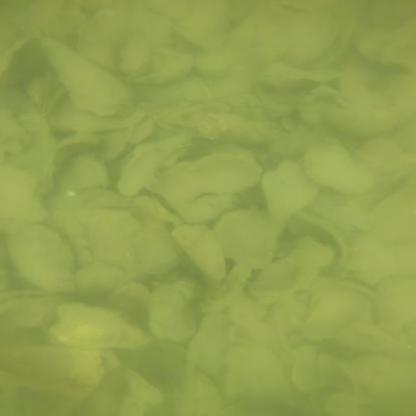3: (288, 217, 347, 269)
Oyster-Closed: (42, 39, 135, 113), (155, 154, 259, 201), (50, 304, 157, 348), (9, 221, 74, 291), (120, 133, 194, 193), (301, 286, 369, 340), (45, 96, 148, 131), (214, 207, 274, 267), (304, 140, 371, 190), (224, 345, 281, 398), (151, 283, 198, 346), (263, 162, 316, 217), (347, 230, 397, 286), (173, 226, 223, 278), (325, 108, 403, 140), (258, 62, 343, 91), (129, 53, 192, 88), (134, 228, 180, 275), (377, 277, 413, 333), (61, 152, 111, 192), (0, 39, 41, 87), (122, 369, 167, 408), (79, 262, 127, 296), (111, 282, 148, 320), (294, 365, 324, 390)
